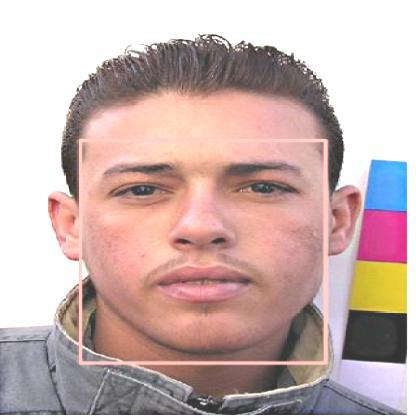without_mask: (79, 140, 325, 363)
